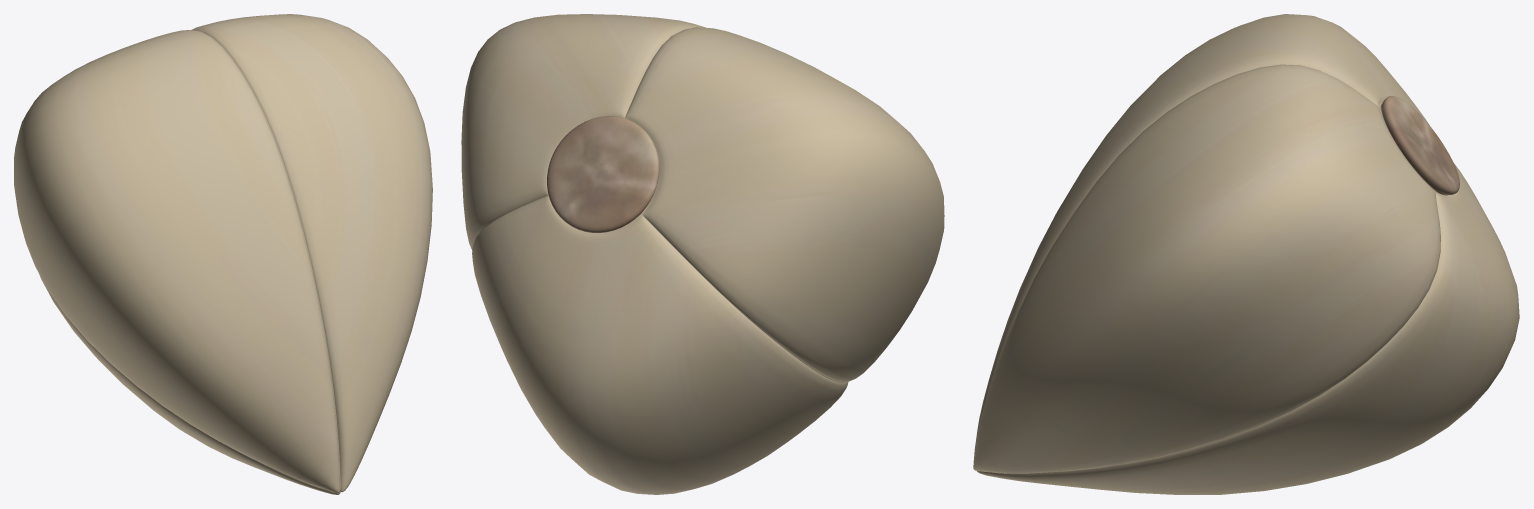
File: GrainBuckwheat011.obj
3 views of the same model, side by side, from view 1: azimuth 30°, elevation 25°; view 2: azimuth 150°, elevation 25°; view 3: azimuth 270°, elevation 25° (orthographic). The views are drawn at different scales.
Parts seen in each view (by area): view 1: GrainBuckwheat011; view 2: GrainBuckwheat011; view 3: GrainBuckwheat011.
Part boxes in pixels (x1,y1,x2,y2): GrainBuckwheat011: (14,14,432,494); GrainBuckwheat011: (461,14,944,494); GrainBuckwheat011: (973,14,1519,494).
Bounding box in the file's own units: 0.0266 × 0.0265 × 0.0301.
Materials: 1 (1 with a texture image).
